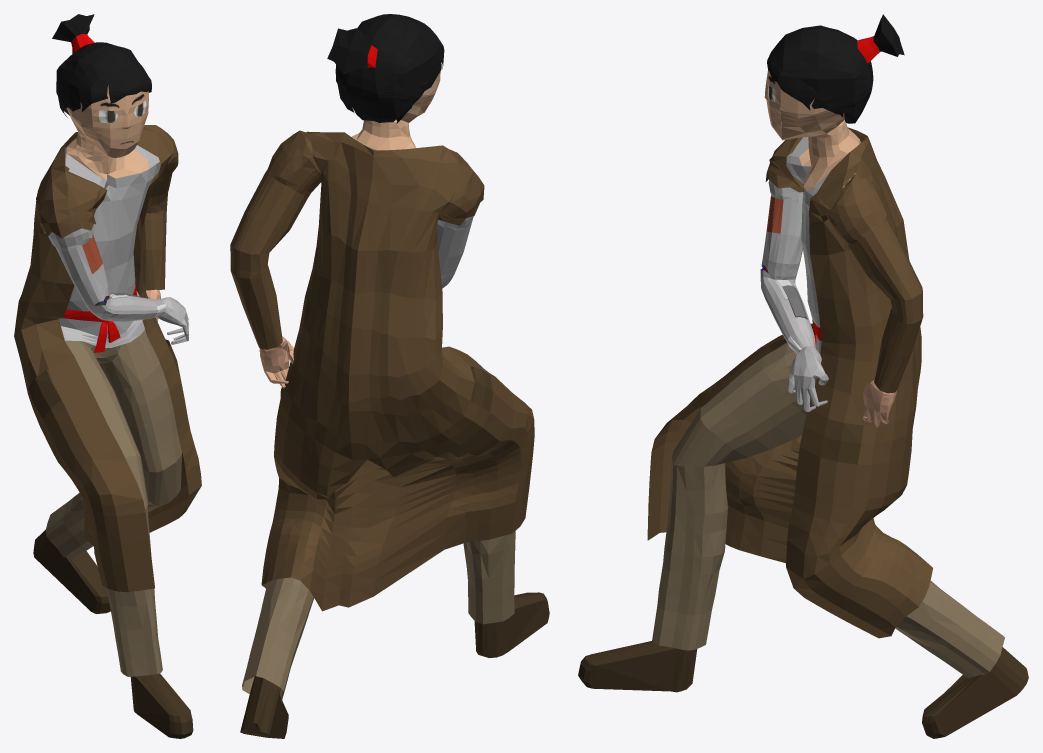
The model's file is One_DB_000010.obj.
3 renders of one model, left to right at view 1: azimuth 30°, elevation 25°; view 2: azimuth 150°, elevation 25°; view 3: azimuth 270°, elevation 25°, orthographic. The views are drawn at different scales.
Visible parts, largest first — view 1: Hair_Cube.004; view 2: Hair_Cube.004; view 3: Hair_Cube.004.
Part boxes in pixels (box(x1,y1,x2,y2)): Hair_Cube.004: box(14, 14, 201, 738); Hair_Cube.004: box(230, 14, 549, 738); Hair_Cube.004: box(578, 14, 1028, 738).
Size of the model in its own units: 1.09 by 3.65 by 2.15.
